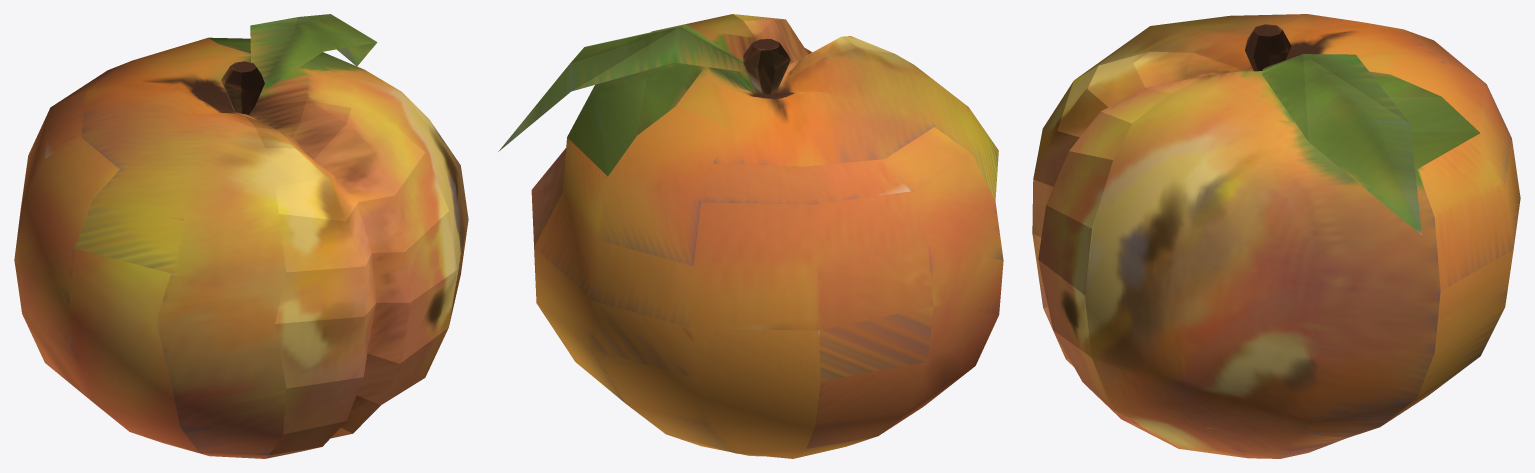
The model's file is g9zWzN.obj.
3 renders of one model, left to right at view 1: azimuth 30°, elevation 25°; view 2: azimuth 150°, elevation 25°; view 3: azimuth 270°, elevation 25°, orthographic. The views are drawn at different scales.
Visible parts, largest first — view 1: edges; view 2: edges; view 3: edges.
Boxes of the visible parts, x1=… form: edges: x1=14, y1=14, x2=468, y2=458; edges: x1=498, y1=14, x2=1003, y2=458; edges: x1=1032, y1=14, x2=1520, y2=458.
Bounding box in the file's own units: 3.7 × 3.44 × 3.57.
Materials: 1 (1 with a texture image).
